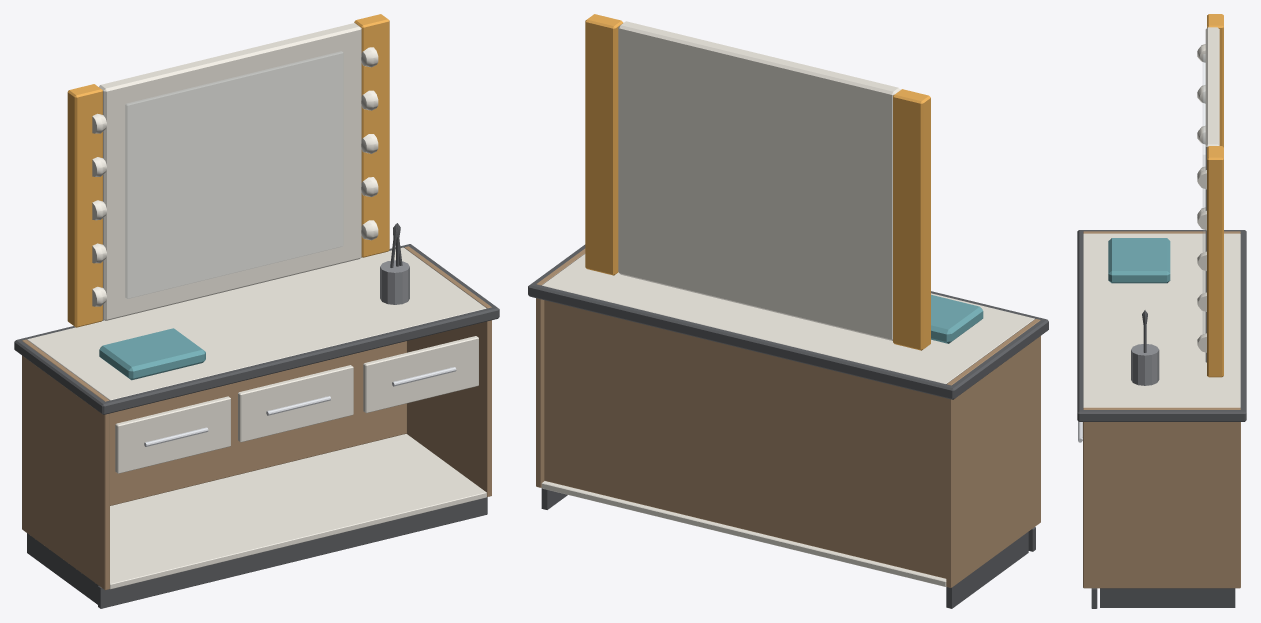
Rendered from 35521_Makeup_Station_with_a_Lit_Mirror__TV_Studio_and_Broadcast_Gallery_.glb.
3 views of the same model, side by side, from view 1: azimuth 30°, elevation 25°; view 2: azimuth 150°, elevation 25°; view 3: azimuth 270°, elevation 25° (orthographic). The views are drawn at different scales.
Visible parts, largest first — view 1: makeup-station, drawer/cream; view 2: makeup-station; view 3: makeup-station.
Part boxes in pixels (<box>): makeup-station: <box>14,14,499,608</box>; drawer/cream: <box>238,365,353,442</box>; makeup-station: <box>528,14,1048,608</box>; makeup-station: <box>1077,14,1246,608</box>.
Size of the model in its own units: 1.54 by 1.7 by 0.5999.
